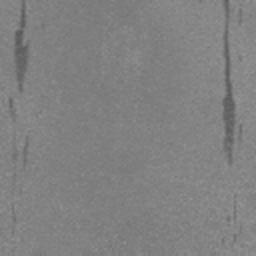Red iron sheet: (222, 28, 236, 164), (14, 0, 29, 92), (223, 0, 230, 20), (23, 142, 29, 164), (9, 98, 15, 116)
